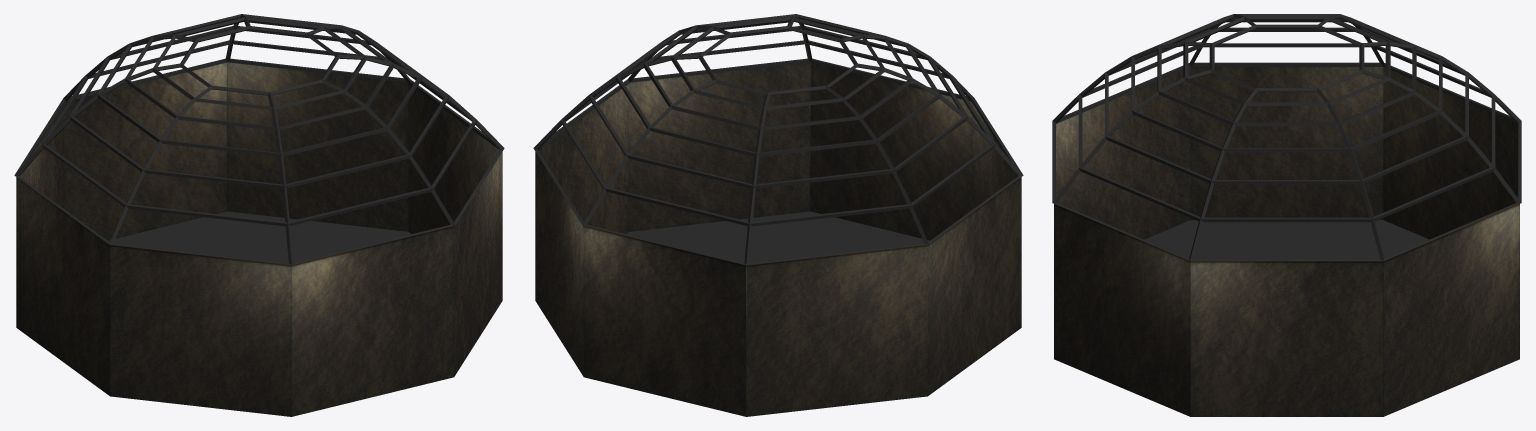
File: octogonroom.gltf
3 views of the same model, side by side, from view 1: azimuth 30°, elevation 25°; view 2: azimuth 150°, elevation 25°; view 3: azimuth 270°, elevation 25° (orthographic). The views are drawn at different scales.
Parts seen in each view (by area): view 1: room_8gon.003, room_8gon.001; view 2: room_8gon.003, room_8gon.001; view 3: room_8gon.003, room_8gon.001.
Part boxes in pixels (left/top/right/bottom): room_8gon.003: left=16, top=62, right=502, bottom=416; room_8gon.001: left=14, top=14, right=504, bottom=265; room_8gon.003: left=535, top=62, right=1021, bottom=416; room_8gon.001: left=533, top=14, right=1023, bottom=265; room_8gon.003: left=1054, top=67, right=1519, bottom=416; room_8gon.001: left=1052, top=14, right=1521, bottom=261.
Size of the model in its own units: 11.58 by 7.14 by 11.58.
2 materials, 1 textured.
